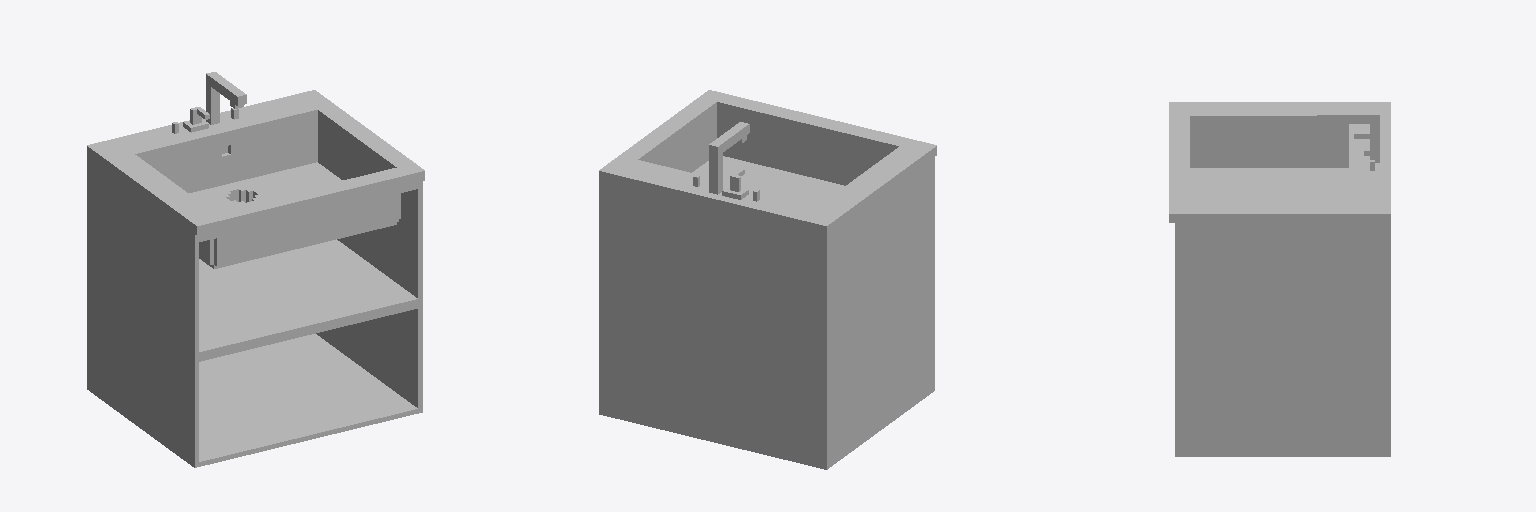
The model's file is KitchenOPEN_Export-5.obj.
3 renders of one model, left to right at view 1: azimuth 30°, elevation 25°; view 2: azimuth 150°, elevation 25°; view 3: azimuth 270°, elevation 25°, orthographic.
Visible parts, largest first — view 1: KitchenOPEN_Export-5; view 2: KitchenOPEN_Export-5; view 3: KitchenOPEN_Export-5.
Boxes of the visible parts, box(x1,y1,x2,y2) form: KitchenOPEN_Export-5: box(87, 72, 424, 467); KitchenOPEN_Export-5: box(599, 90, 936, 469); KitchenOPEN_Export-5: box(1169, 102, 1390, 456).
Size of the model in its own units: 50 by 61 by 42.